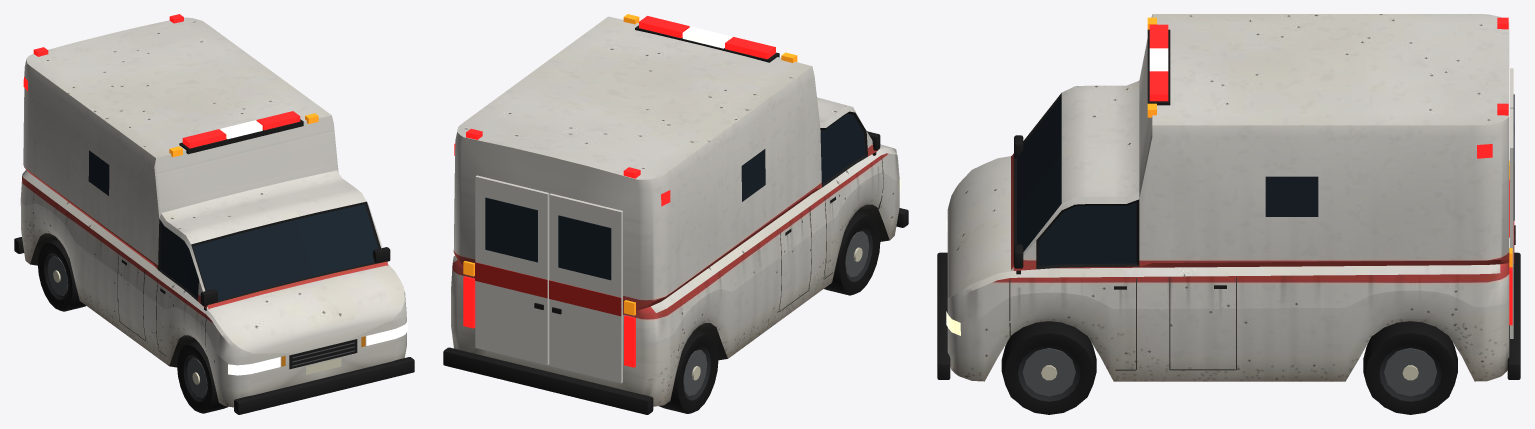
The model's file is ambulance.glb.
The picture shows the model from 3 angles, left to right: view 1: azimuth 30°, elevation 25°; view 2: azimuth 150°, elevation 25°; view 3: azimuth 270°, elevation 25°; orthographic projection. The views are drawn at different scales.
Visible parts, largest first — view 1: body, wheel-front-right, wheel-back-right, wheel-front-right.1, wheel-back-right.1; view 2: body, door-left, door-right, wheel-back-right, wheel-front-right, wheel-back-right.1, wheel-front-right.1; view 3: body, wheel-front-left, wheel-back-left, wheel-back-left.1, wheel-front-left.1, door-left.
Boxes of the visible parts, <box> form: body: <box>14,14,414,414</box>; wheel-front-right: <box>177,341,228,413</box>; wheel-back-right: <box>37,239,86,311</box>; wheel-front-right.1: <box>183,355,207,401</box>; wheel-back-right.1: <box>44,253,68,299</box>; body: <box>443,14,908,414</box>; door-left: <box>475,175,549,365</box>; door-right: <box>549,193,622,383</box>; wheel-back-right: <box>659,330,718,413</box>; wheel-front-right: <box>824,211,880,295</box>; wheel-back-right.1: <box>683,346,710,400</box>; wheel-front-right.1: <box>845,227,872,281</box>; body: <box>937,14,1520,381</box>; wheel-front-left: <box>1001,321,1096,414</box>; wheel-back-left: <box>1363,321,1457,414</box>; wheel-back-left.1: <box>1379,345,1441,401</box>; wheel-front-left.1: <box>1018,345,1080,401</box>; door-left: <box>1510,108,1515,338</box>.
Size of the model in its own units: 1.49 by 1.76 by 3.1.
17 materials, 1 textured.
